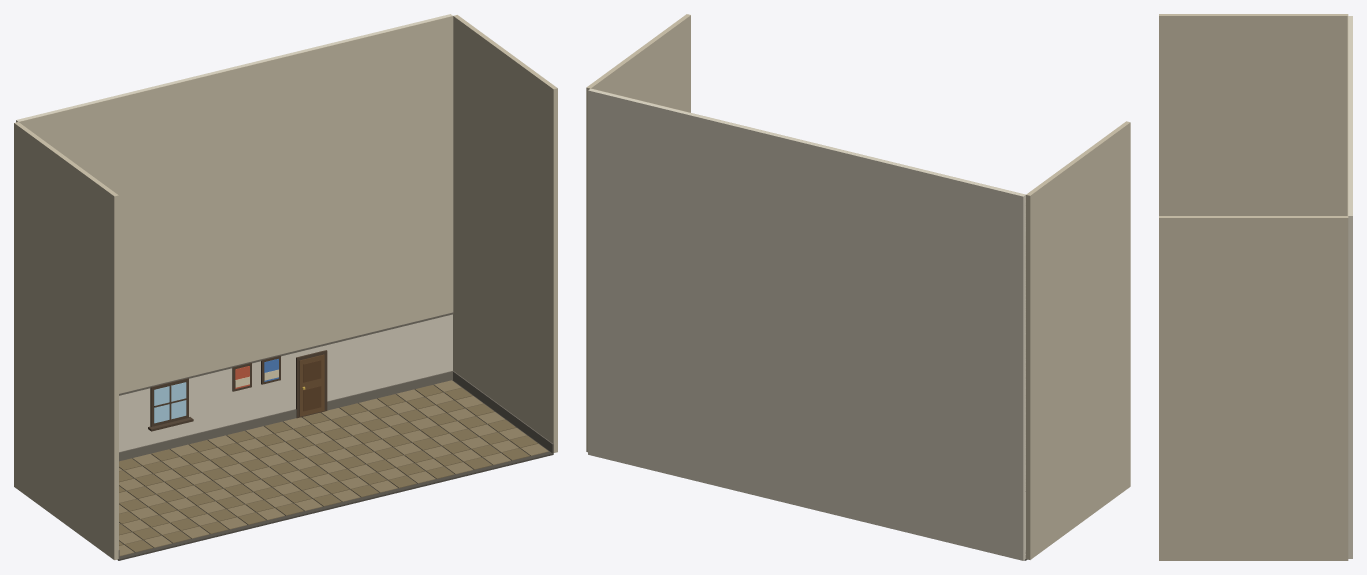
The model's file is room_japao_stone.glb.
3 renders of one model, left to right at view 1: azimuth 30°, elevation 25°; view 2: azimuth 150°, elevation 25°; view 3: azimuth 270°, elevation 25°, orthographic. The views are drawn at different scales.
Visible parts, largest first — view 1: room; view 2: room; view 3: room.
Part boxes in pixels (bbox=[...]): room: bbox=[14, 14, 557, 560]; room: bbox=[586, 14, 1130, 560]; room: bbox=[1159, 14, 1352, 560].
Bounding box in the file's own units: 30.6 × 24.11 × 12.3.
